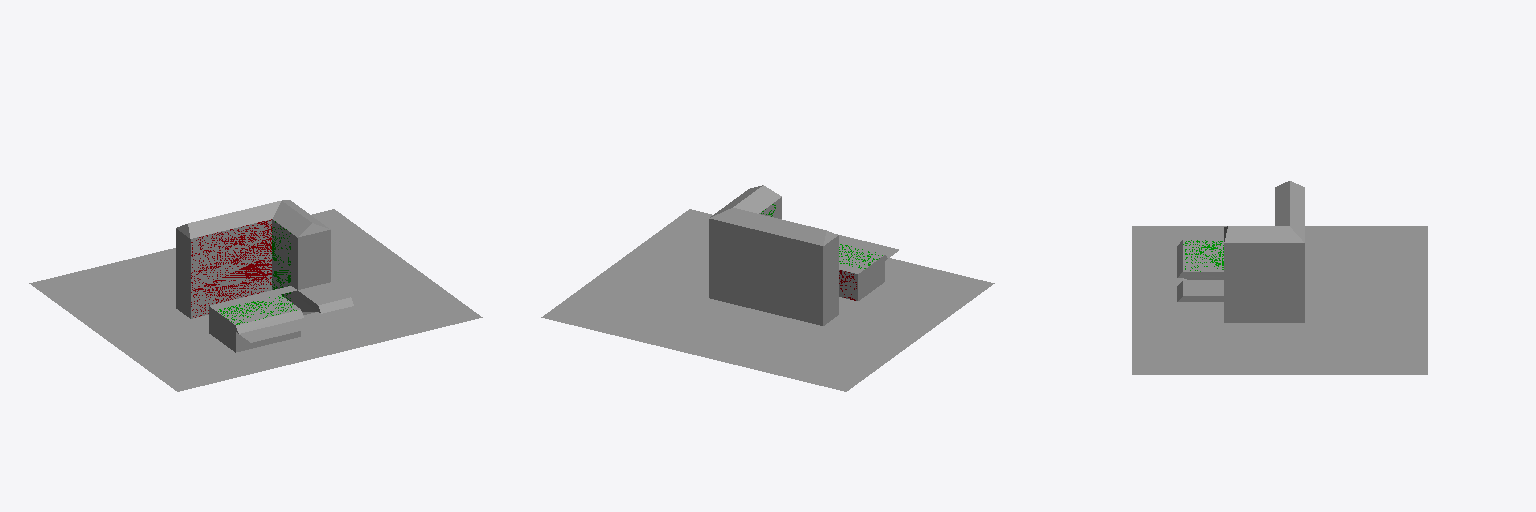
The model's file is aveureara.obj.
The picture shows the model from 3 angles: view 1: azimuth 30°, elevation 25°; view 2: azimuth 150°, elevation 25°; view 3: azimuth 270°, elevation 25°; orthographic projection.
Visible parts, largest first — view 1: Cube.001; view 2: Cube.001; view 3: Cube.001.
Part boxes in pixels (bbox=[...]): Cube.001: bbox=[29, 200, 482, 391]; Cube.001: bbox=[541, 185, 994, 391]; Cube.001: bbox=[1132, 181, 1427, 374].
Size of the model in its own units: 73.07 by 20.39 by 61.53.